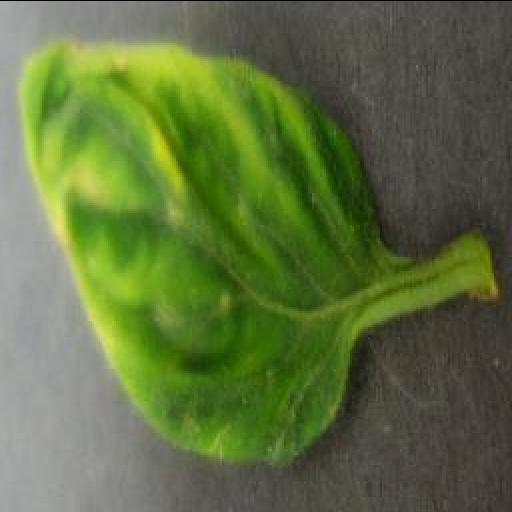disease_tomato: (18, 41, 394, 457)
